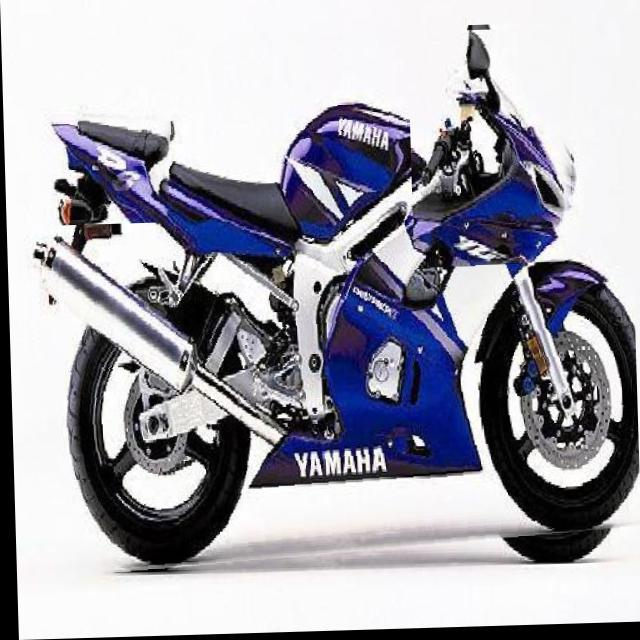All: (2, 25, 639, 580)
Head: (407, 31, 577, 272)
Tail: (41, 106, 174, 226)
